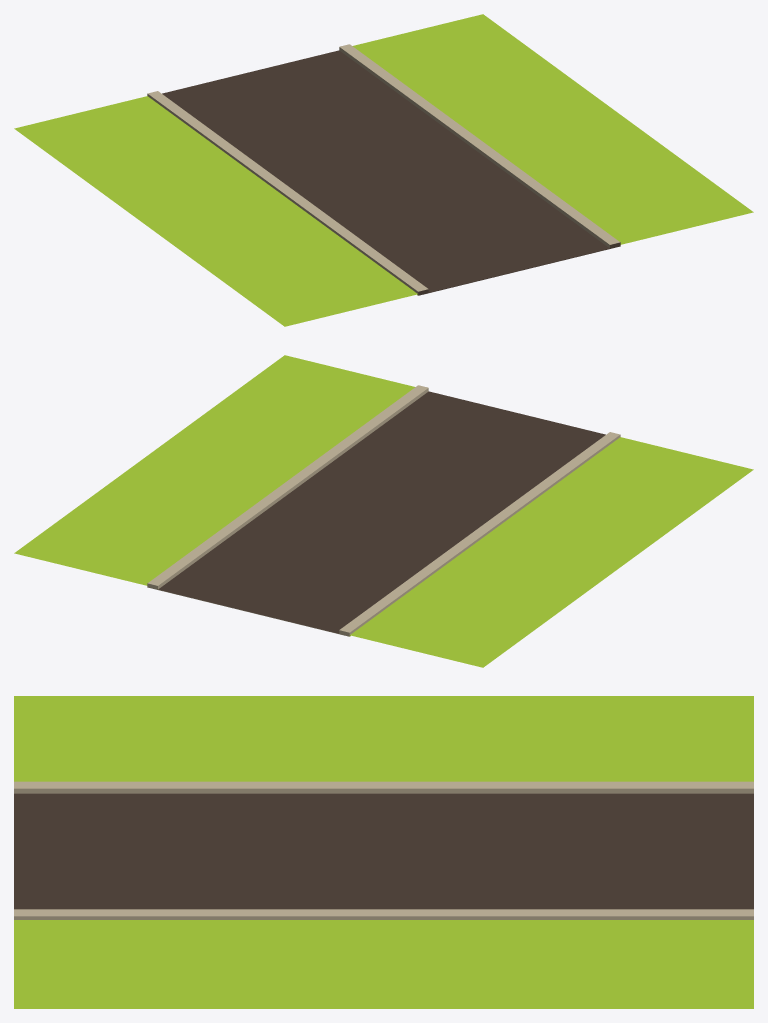
File: road.fbx
3 renders of one model, top to bottom at view 1: azimuth 30°, elevation 25°; view 2: azimuth 150°, elevation 25°; view 3: azimuth 270°, elevation 25°, orthographic. The views are drawn at different scales.
Parts seen in each view (by area): view 1: Street; view 2: Street; view 3: Street.
Boxes of the visible parts, bbox=[...] form: Street: bbox=[14, 14, 753, 326]; Street: bbox=[14, 355, 753, 667]; Street: bbox=[14, 696, 753, 1008].
Size of the model in its own units: 4 by 0.0335 by 4.
